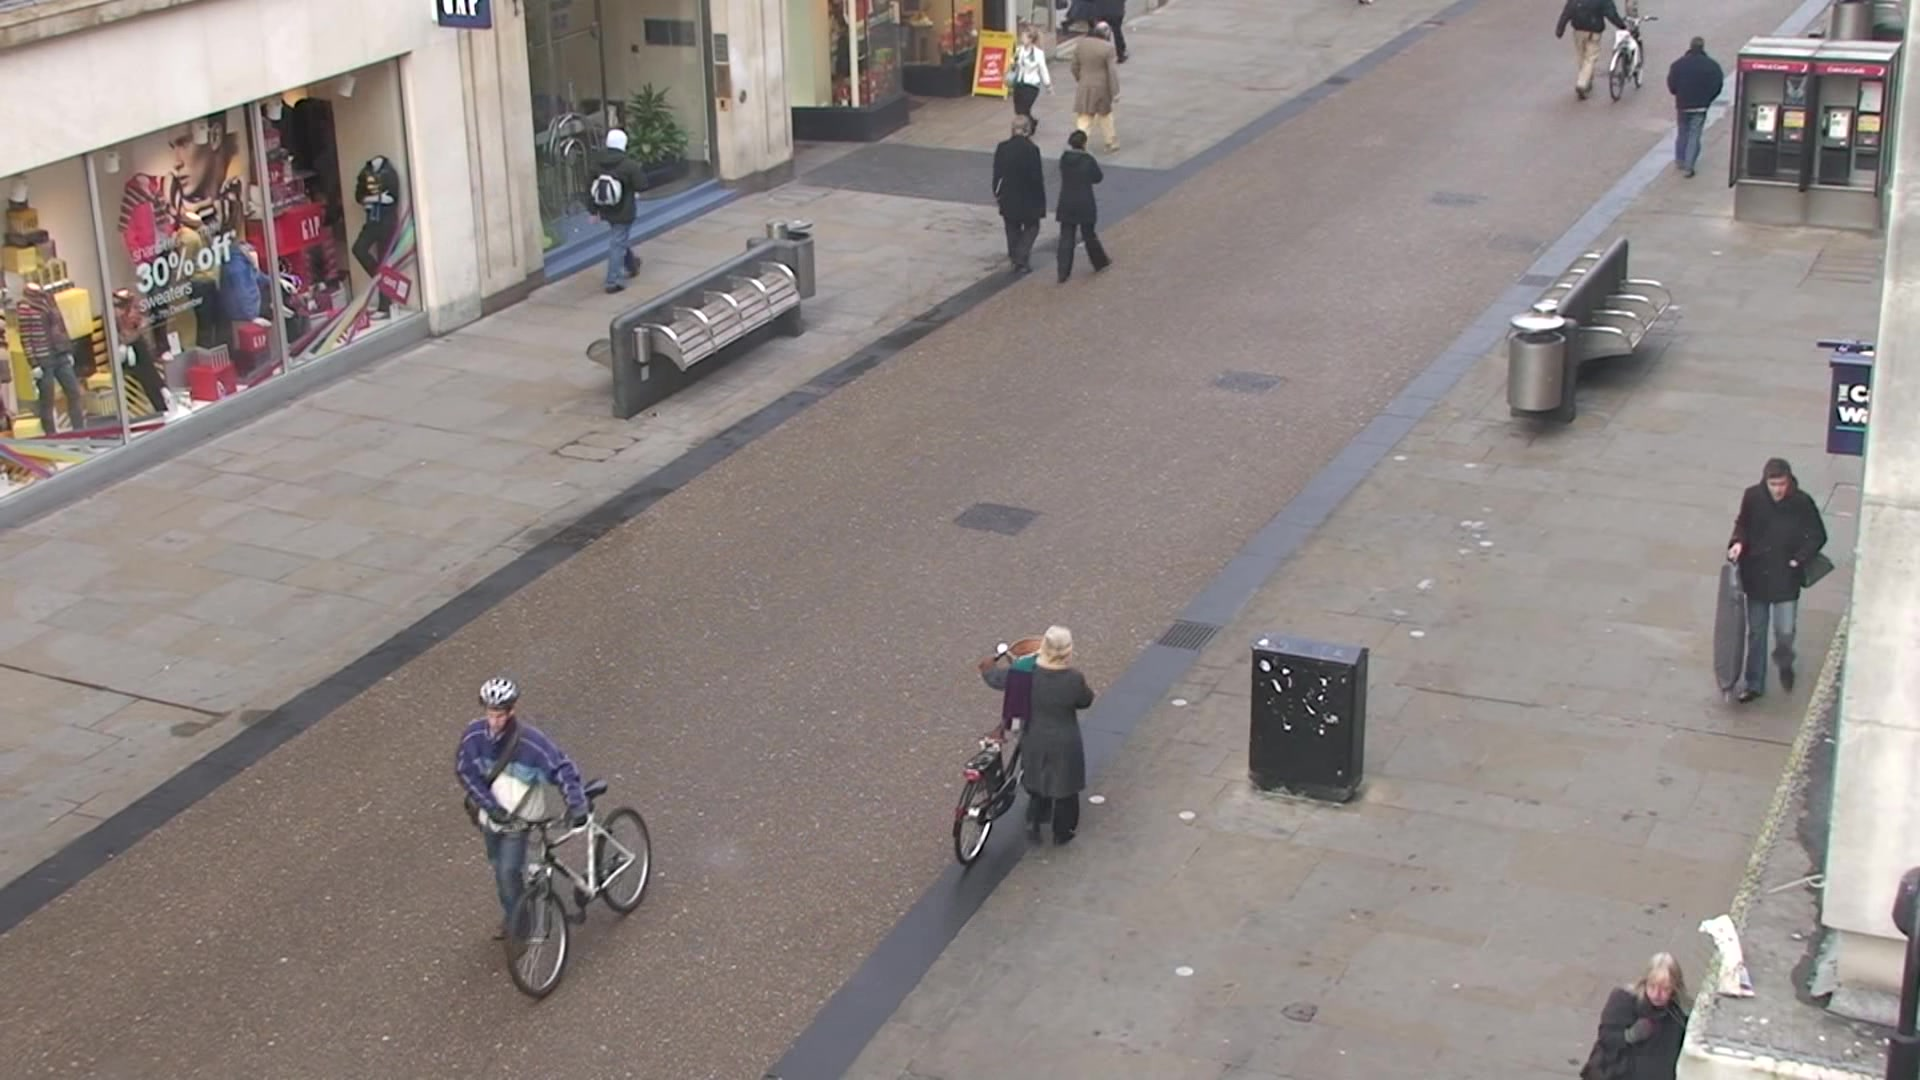person: (452, 676, 597, 954), (975, 625, 1096, 853), (1728, 457, 1833, 707), (583, 127, 652, 293), (991, 113, 1047, 280), (1055, 131, 1111, 288), (1665, 35, 1724, 177), (1070, 20, 1123, 156), (1007, 26, 1052, 139)
